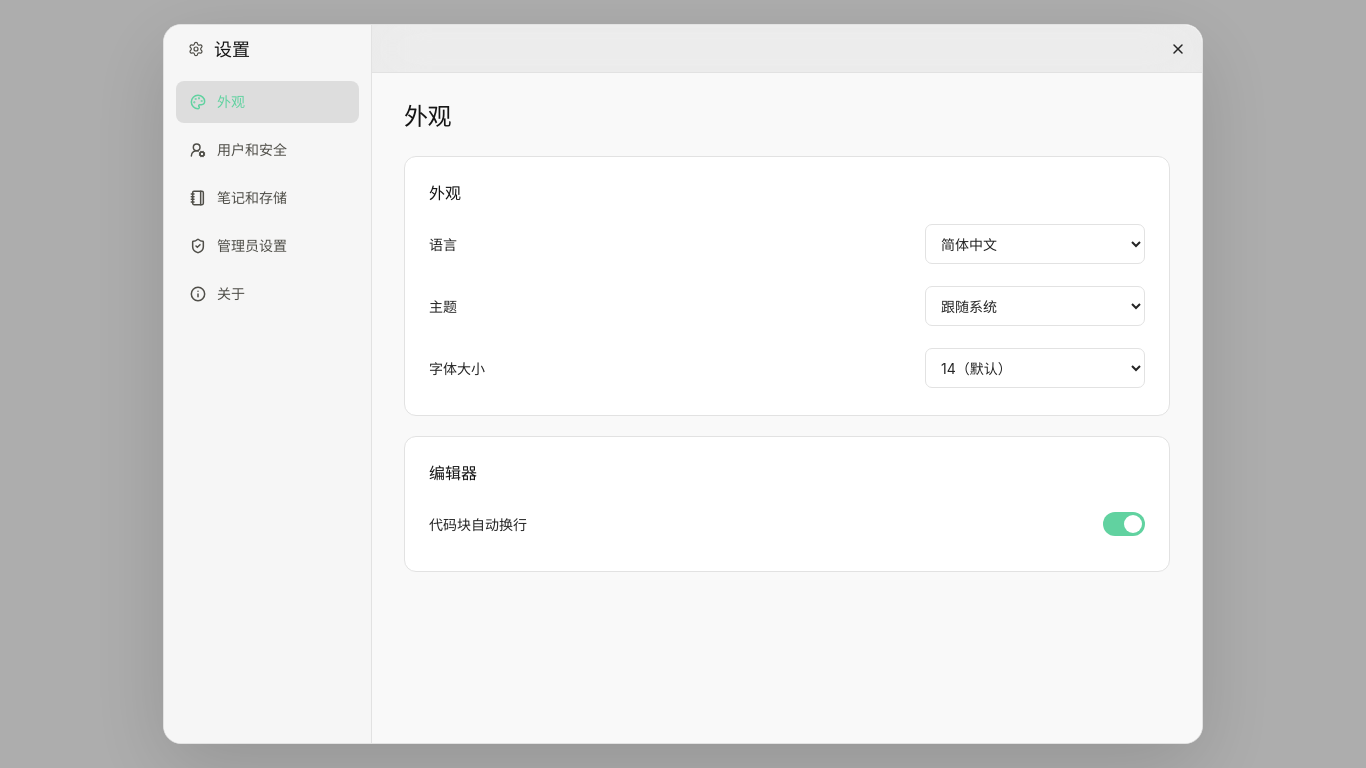
SettingsPanel › saves an explicit language and updates the interface immediately
Select "繁體中文" in the dropdown named "界面语言" at (1035, 244), box [925,224,1145,264]
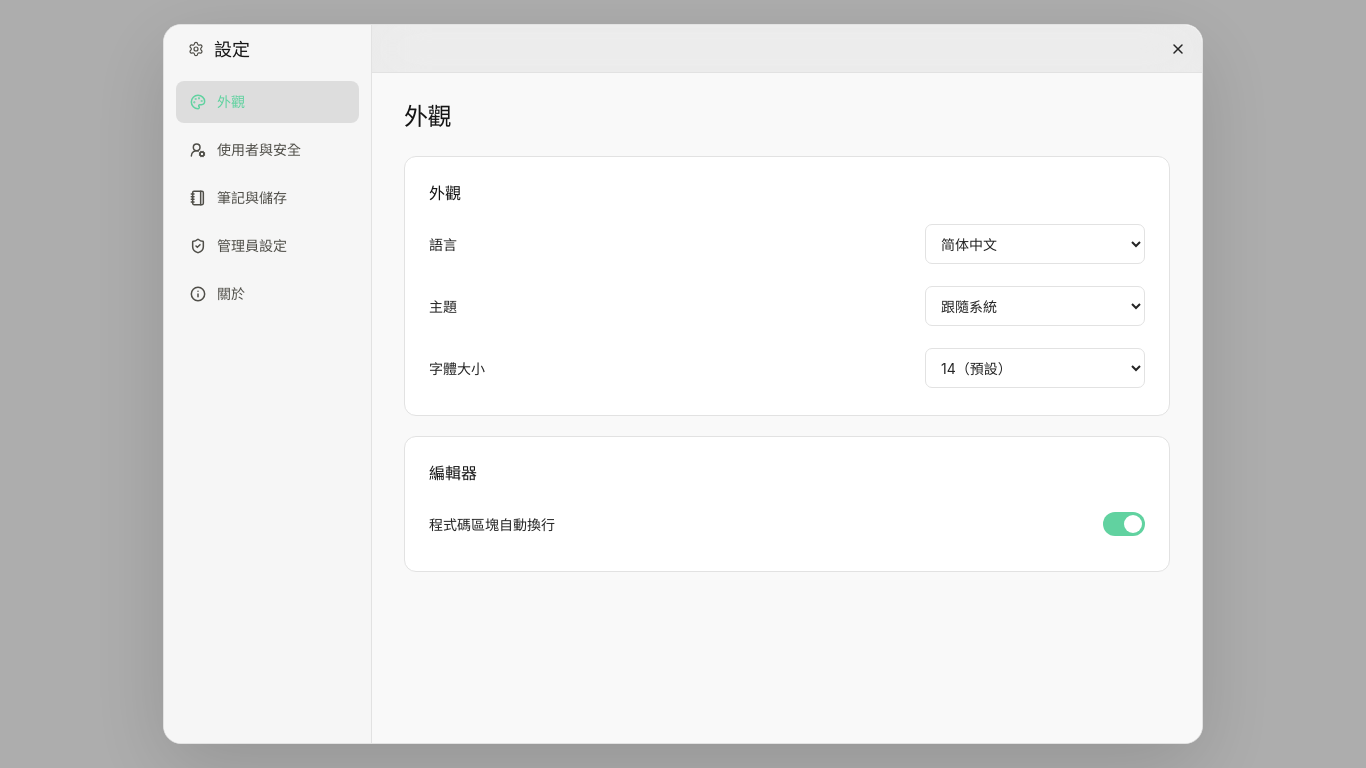
Expected: the text "使用者與安全" is shown, [176,129,359,171]
